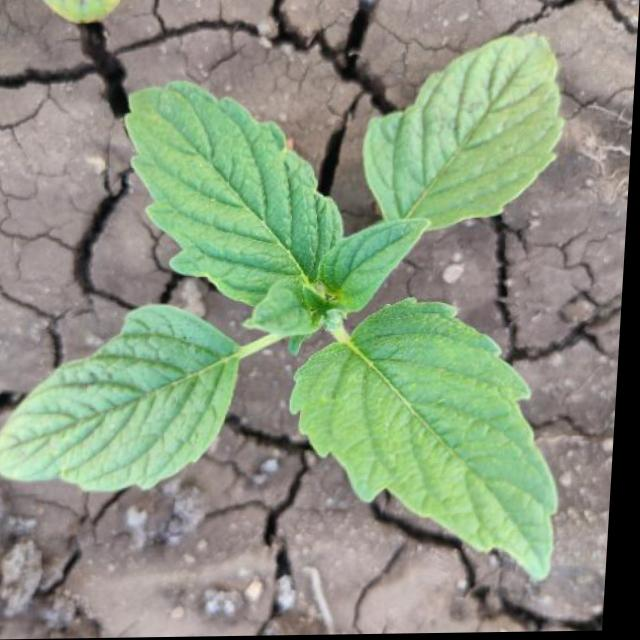weed: (0, 27, 592, 611)
